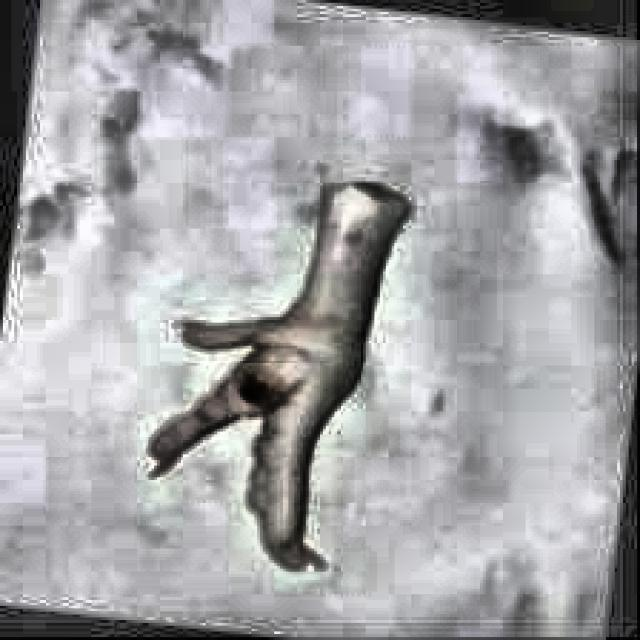Bumble foot: (230, 370, 286, 417)
